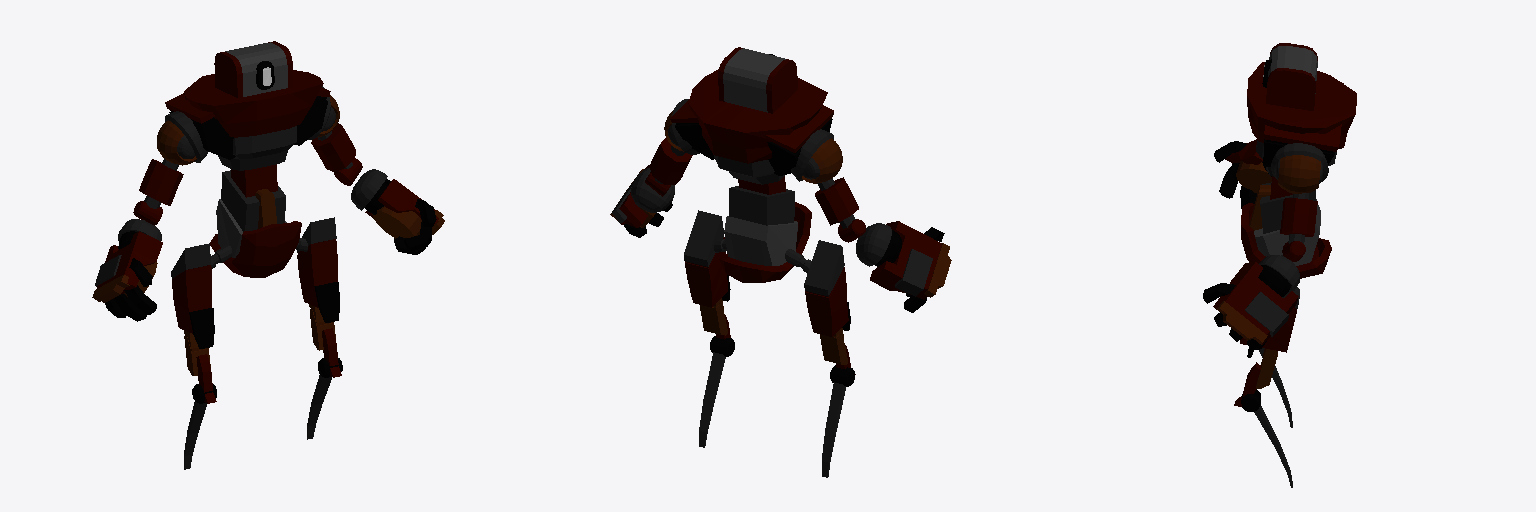
The model's file is Stan.obj.
The picture shows the model from 3 angles: view 1: azimuth 30°, elevation 25°; view 2: azimuth 150°, elevation 25°; view 3: azimuth 270°, elevation 25°; orthographic projection.
Visible parts, largest first — view 1: Stan_Cube.000; view 2: Stan_Cube.000; view 3: Stan_Cube.000.
Part boxes in pixels (left/top/right/bottom): Stan_Cube.000: left=92, top=41, right=444, bottom=469; Stan_Cube.000: left=610, top=47, right=951, bottom=477; Stan_Cube.000: left=1203, top=43, right=1356, bottom=487.
Bounding box in the file's own units: 5.5 × 6.35 × 2.21.